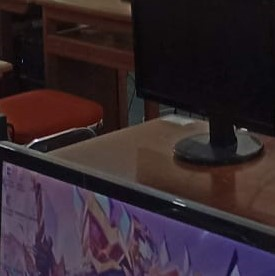monitor: (128, 0, 274, 164)
